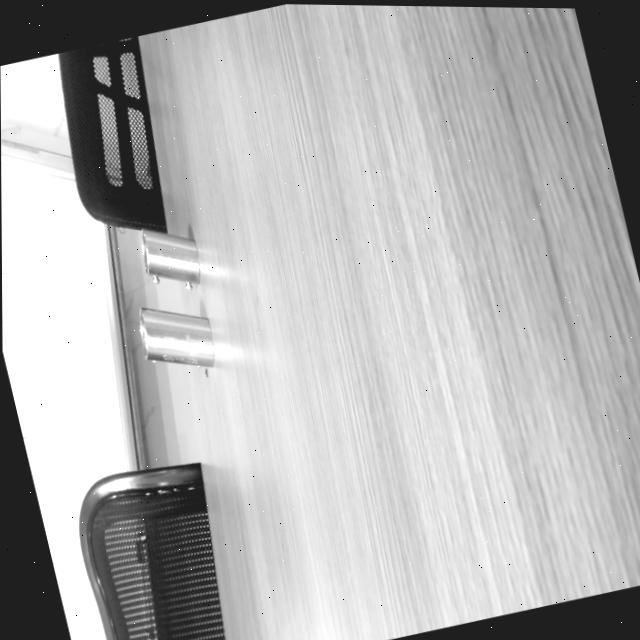Co_Lon: (133, 307, 219, 369)
Co_Nho: (134, 229, 205, 285)
